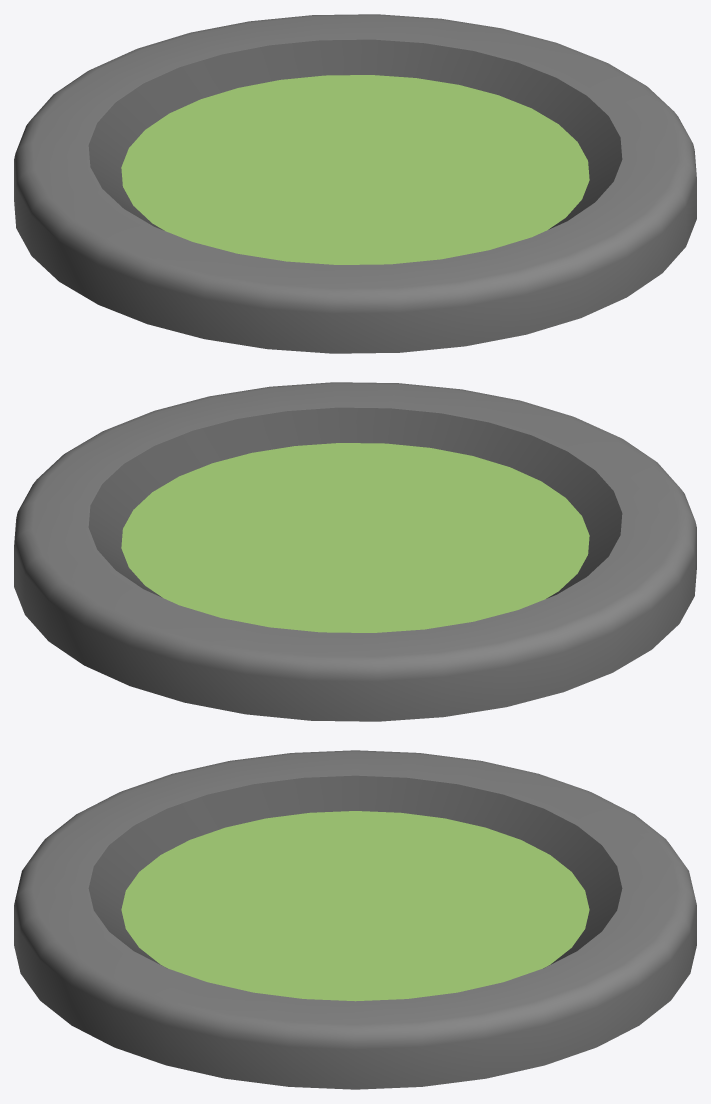
The model's file is SM_JumpPad.FBX.
3 views of the same model, one above another, from view 1: azimuth 30°, elevation 25°; view 2: azimuth 150°, elevation 25°; view 3: azimuth 270°, elevation 25° (orthographic).
Parts seen in each view (by area): view 1: SM_JumpPad; view 2: SM_JumpPad; view 3: SM_JumpPad.
Part boxes in pixels (left/top/right/bottom): SM_JumpPad: left=14, top=14, right=696, bottom=353; SM_JumpPad: left=14, top=382, right=696, bottom=721; SM_JumpPad: left=14, top=750, right=696, bottom=1089.
Size of what is drawn, in the model's own units: 161 by 161 by 14.85.
